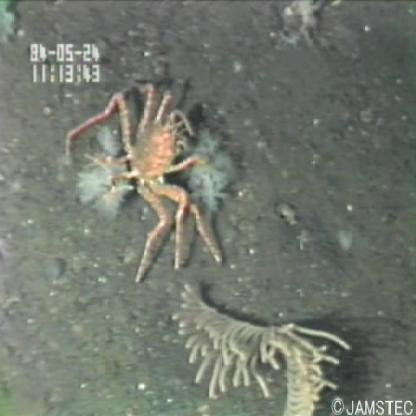Bio: (61, 81, 235, 289), (170, 278, 354, 416)
